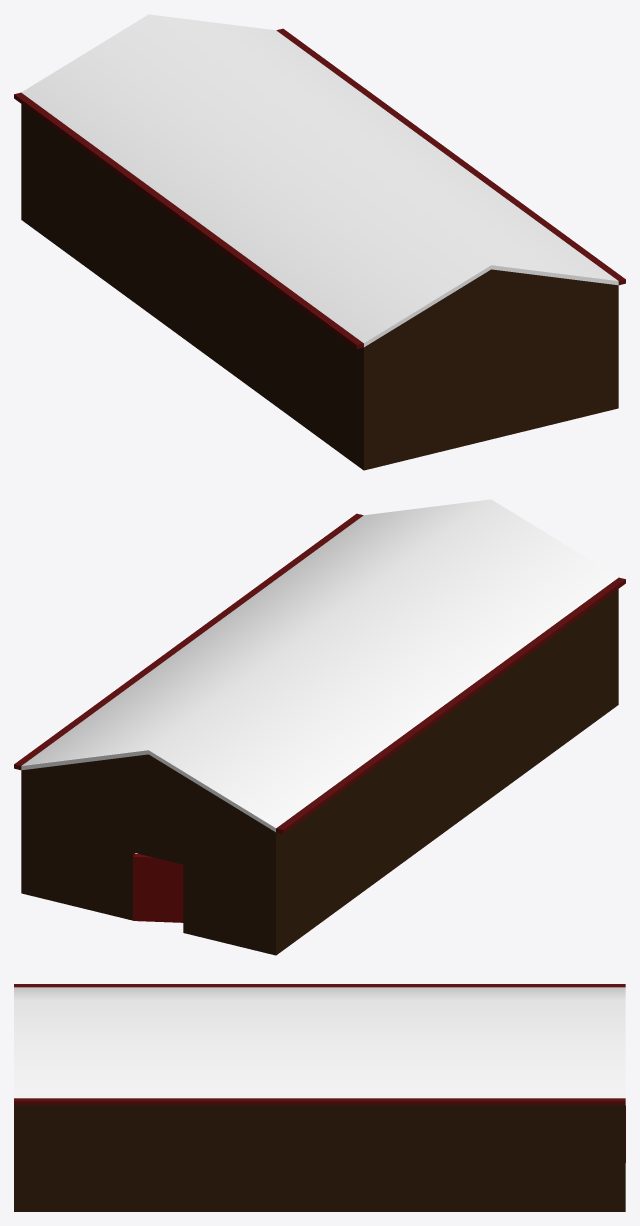
The model's file is stodola.fbx.
3 views of the same model, one above another, from view 1: azimuth 30°, elevation 25°; view 2: azimuth 150°, elevation 25°; view 3: azimuth 270°, elevation 25° (orthographic). The views are drawn at different scales.
Visible parts, largest first — view 1: Box426; view 2: Box426, Box429; view 3: Box426.
Part boxes in pixels (x1,y1,x2,y2): Box426: (14, 14, 625, 470); Box426: (14, 499, 625, 955); Box429: (133, 854, 183, 922); Box426: (14, 984, 625, 1211).
Size of the model in its own units: 256 by 158 by 564.
